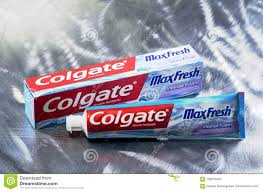colgate-medium: (27, 36, 211, 126)
